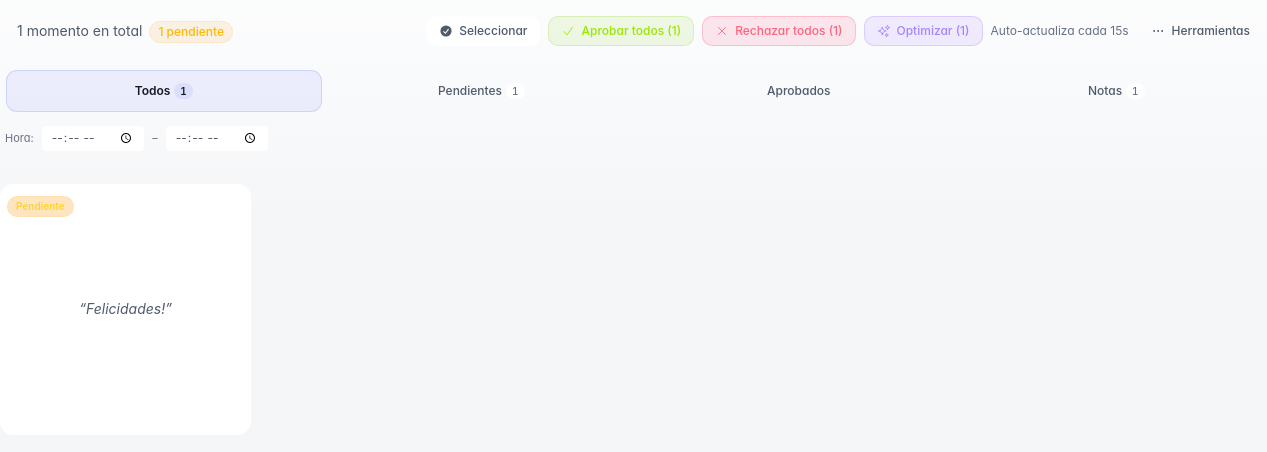
Test: MomentsWall — empty state › shows approved-specific empty state when approved filter active
What coordinates should you click on to do the following:
click the button "Aprobados"
I would click on:
 (799, 91)
Its box is [642, 71, 956, 111].
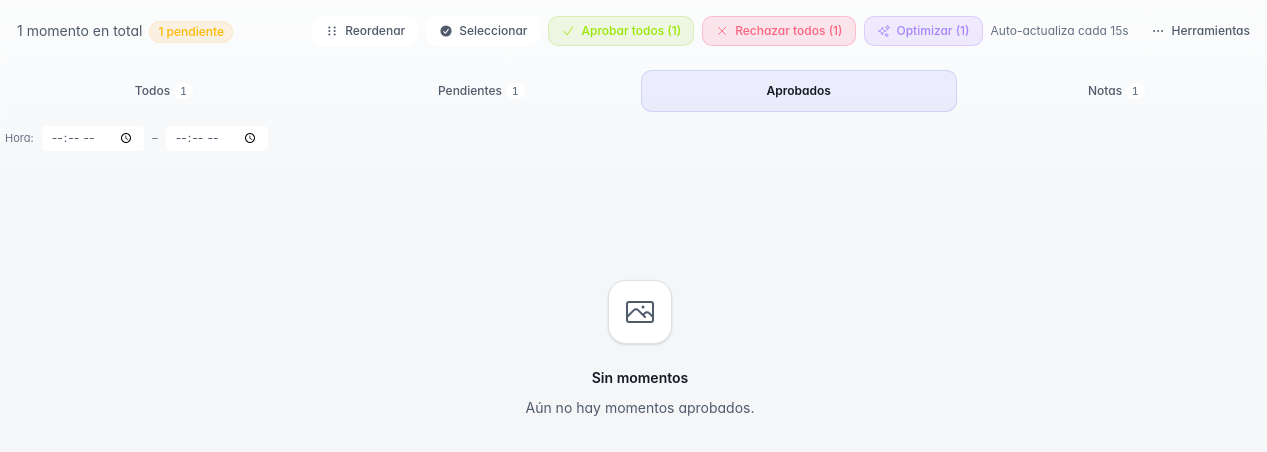
Now the text "Aún no hay momentos aprobados." is shown, box [526, 396, 754, 420]
